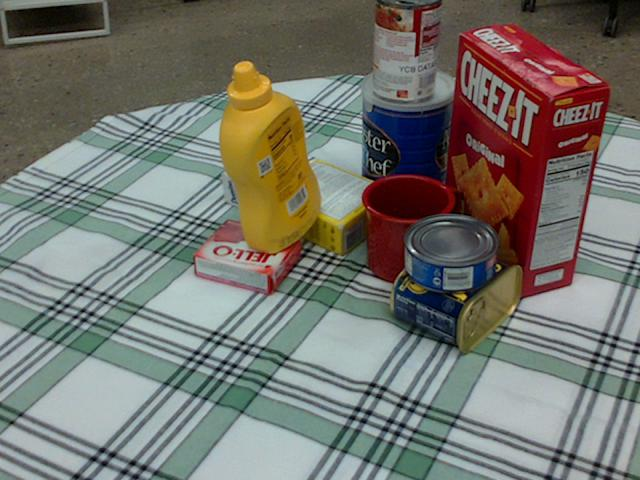cracker_box: (441, 24, 612, 294)
gelatin_box: (193, 221, 302, 296)
master_chef_can: (359, 65, 457, 219)
mug: (362, 174, 461, 284)
mustard_bottle: (219, 61, 320, 253)
potted_meat_can: (392, 234, 525, 349)
sugar_box: (219, 140, 392, 255)
tomato_soup_can: (373, 0, 441, 102)
tuna_fish_can: (403, 214, 498, 292)
